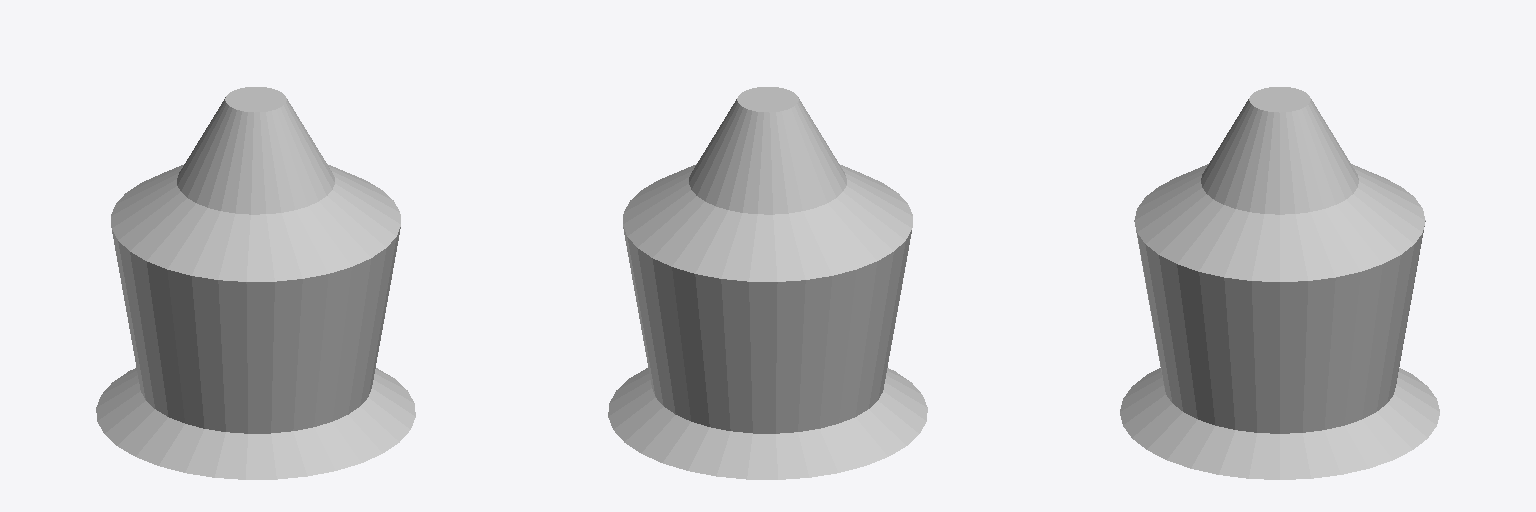
Rendered from citycentre.obj.
The picture shows the model from 3 angles: view 1: azimuth 30°, elevation 25°; view 2: azimuth 150°, elevation 25°; view 3: azimuth 270°, elevation 25°; orthographic projection.
Visible parts, largest first — view 1: Cylinder; view 2: Cylinder; view 3: Cylinder.
Boxes of the visible parts, <box> form: Cylinder: <box>96,87,415,479</box>; Cylinder: <box>608,87,927,479</box>; Cylinder: <box>1120,87,1439,479</box>.
Bounding box in the file's own units: 2.76 × 2.97 × 2.76.